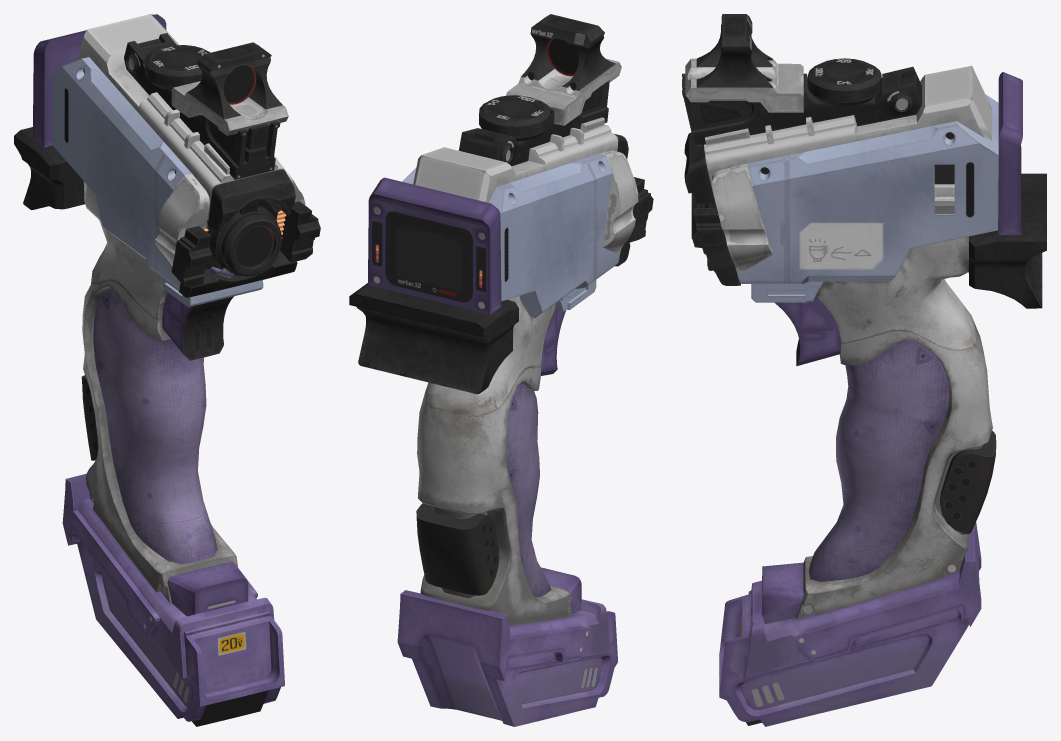
File: scanner.fbx
The picture shows the model from 3 angles, left to right: view 1: azimuth 30°, elevation 25°; view 2: azimuth 150°, elevation 25°; view 3: azimuth 270°, elevation 25°; orthographic projection. The views are drawn at different scales.
Parts seen in each view (by area): view 1: Body_Low, Reticle_Low, Scroller_Low; view 2: Body_Low, Scroller_Low, Reticle_Low; view 3: Body_Low, Scroller_Low, Switch_Low.
Part boxes in pixels (<box>): Body_Low: <box>14,14,320,726</box>; Reticle_Low: <box>223,65,273,267</box>; Scroller_Low: <box>145,45,210,90</box>; Body_Low: <box>349,14,653,726</box>; Scroller_Low: <box>479,95,550,141</box>; Reticle_Low: <box>547,38,578,76</box>; Body_Low: <box>682,14,1046,726</box>; Scroller_Low: <box>807,58,881,106</box>; Switch_Low: <box>934,184,954,213</box>.
Bounding box in the file's own units: 7.95 × 37.62 × 18.18.
1 material, 1 textured.
